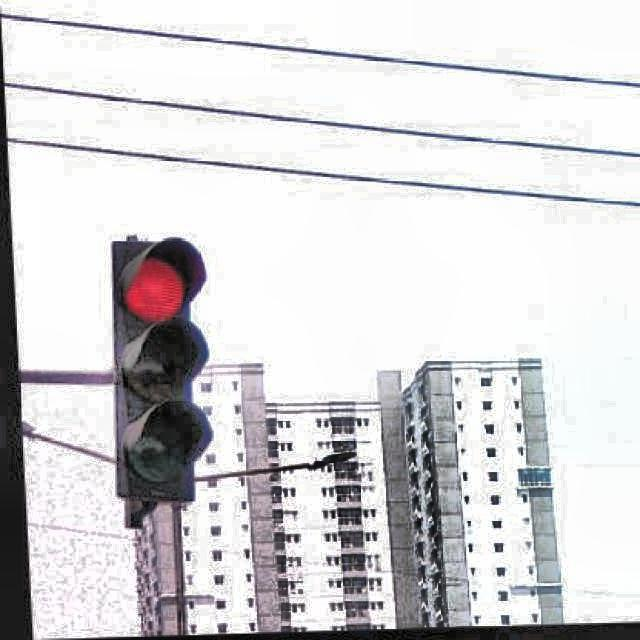red: (106, 229, 212, 503)
